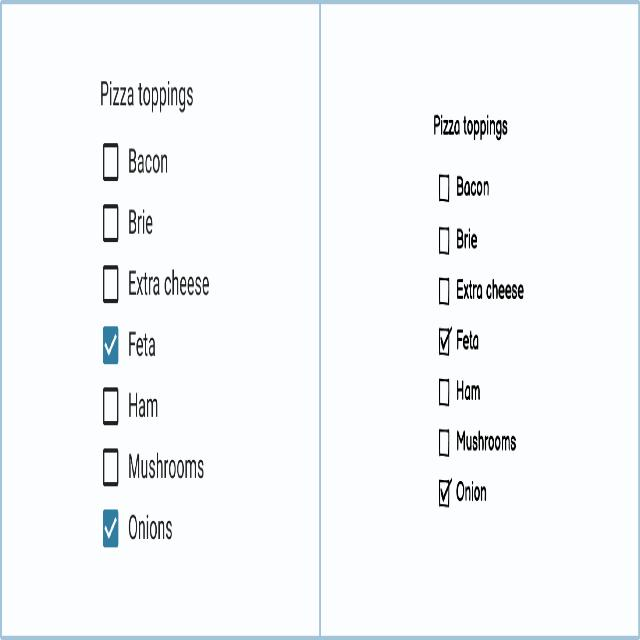Check-box: (100, 257, 212, 306), (102, 442, 207, 487), (100, 500, 175, 553), (436, 268, 527, 308), (436, 421, 518, 465), (100, 137, 170, 184), (101, 384, 163, 430), (100, 198, 156, 248), (101, 322, 159, 366), (437, 473, 489, 518), (436, 168, 494, 206), (435, 323, 483, 359), (437, 223, 480, 262), (438, 374, 482, 412)
Text: (96, 77, 196, 118), (431, 108, 512, 148)
